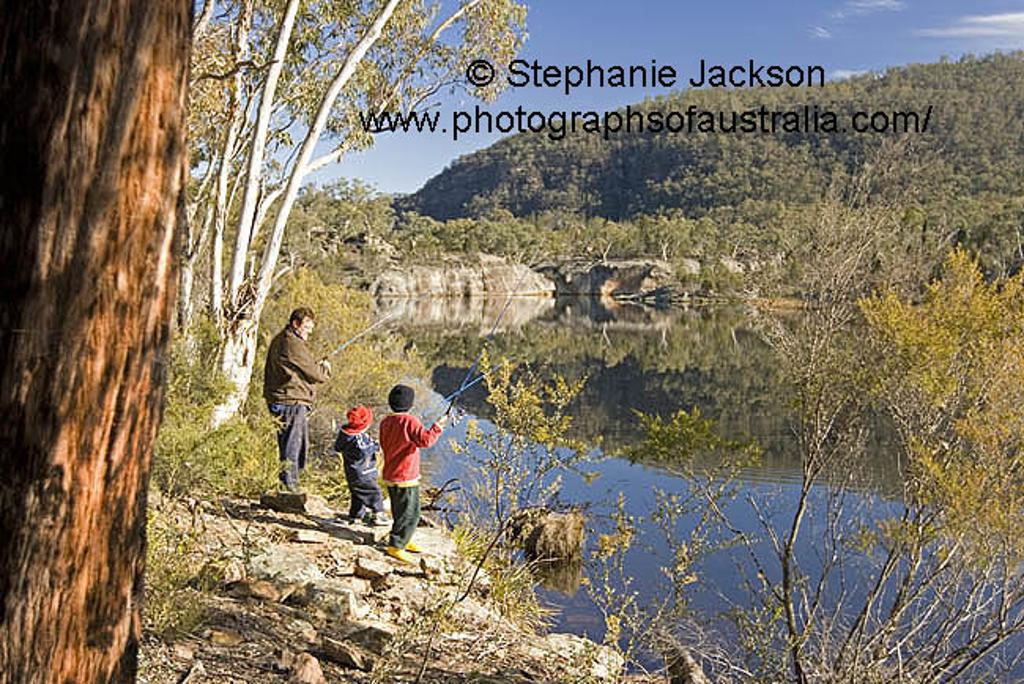face: (298, 320, 315, 341)
